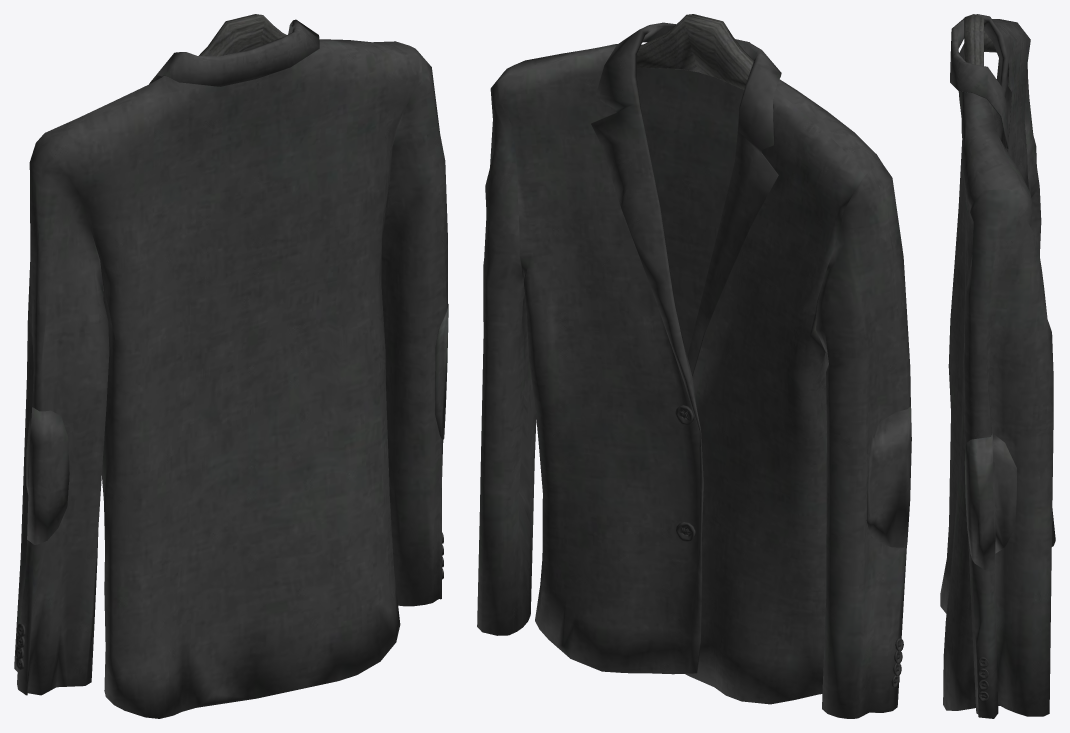
The model's file is hvtop_Clothes_09.glb.
3 views of the same model, side by side, from view 1: azimuth 30°, elevation 25°; view 2: azimuth 150°, elevation 25°; view 3: azimuth 270°, elevation 25° (orthographic). The views are drawn at different scales.
Parts seen in each view (by area): view 1: BP_Clothes_09; view 2: BP_Clothes_09; view 3: BP_Clothes_09.
Part boxes in pixels (x1=…): BP_Clothes_09: x1=14, y1=14, x2=448, y2=718; BP_Clothes_09: x1=477, y1=14, x2=911, y2=718; BP_Clothes_09: x1=940, y1=14, x2=1055, y2=718.
Size of the model in its own units: 0.5263 by 0.8082 by 0.132.
Materials: 5 (4 with a texture image).
